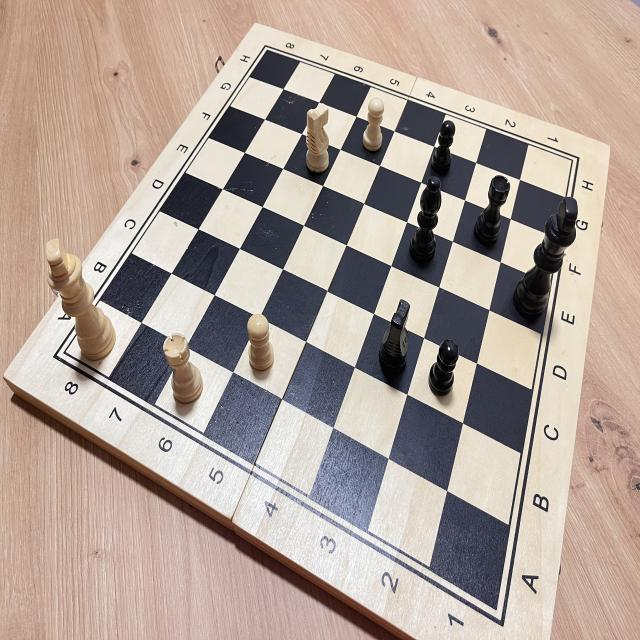black-bishop: (405, 166, 451, 269)
black-king: (512, 188, 583, 332)
black-knight: (378, 288, 417, 373)
black-pawn: (424, 115, 459, 185), (425, 337, 463, 398)
black-rook: (471, 170, 512, 255)
white-king: (43, 231, 117, 364)
white-knight: (298, 91, 336, 178)
white-pawn: (240, 301, 283, 378), (358, 91, 390, 160)
white-rook: (158, 324, 206, 411)
